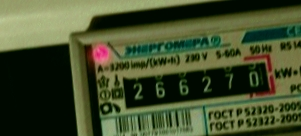0: (246, 67, 259, 88)
2: (129, 78, 146, 101), (199, 72, 214, 94)
6: (176, 75, 191, 95), (153, 78, 167, 99)
7: (222, 70, 236, 90)
screen: (108, 45, 286, 121)
